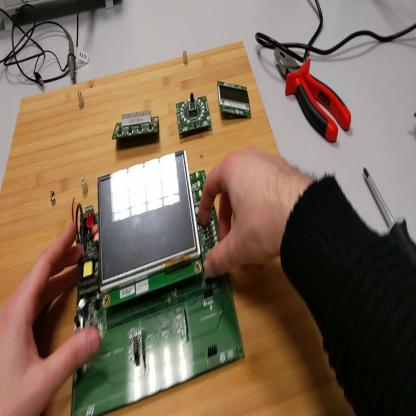hand: (2, 211, 107, 416), (196, 138, 313, 277)
low voltage board: (71, 143, 247, 415)
oscilloscope: (2, 2, 116, 33)
oscilloscope probe tip: (65, 33, 78, 84)
pliers: (275, 46, 353, 144)
screwdriver-: (364, 166, 416, 259)
working area: (2, 42, 356, 413)
